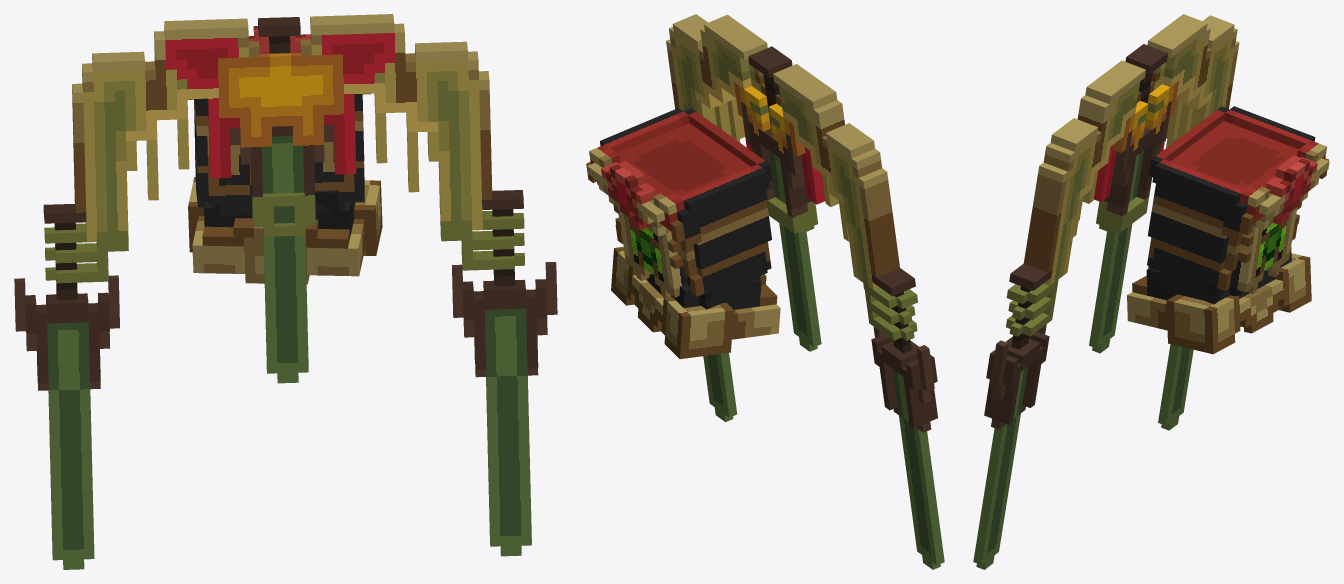
File: f58879df-aba8-4d51-afa7-1c0703f53589.gltf
3 renders of one model, left to right at view 1: azimuth 30°, elevation 25°; view 2: azimuth 150°, elevation 25°; view 3: azimuth 270°, elevation 25°, orthographic. The views are drawn at different scales.
Parts seen in each view (by area): view 1: Equip_Back-Local, Equip_Belly-Local, Equip_Chest-Local; view 2: Equip_Back-Local, Equip_Chest-Local, Equip_Belly-Local; view 3: Equip_Back-Local, Equip_Chest-Local, Equip_Belly-Local.
Boxes of the visible parts, x1,y1,x2,y2 form: Equip_Back-Local: (14,14,557,569); Equip_Belly-Local: (188,177,382,284); Equip_Chest-Local: (187,26,370,215); Equip_Back-Local: (666,14,944,569); Equip_Chest-Local: (586,108,772,309); Equip_Belly-Local: (611,247,780,359); Equip_Back-Local: (973,14,1239,569); Equip_Chest-Local: (1147,106,1329,304); Equip_Belly-Local: (1127,247,1311,354).
Size of the model in its own units: 46.59 by 54.32 by 38.2.
Materials: 3 (3 with a texture image).
